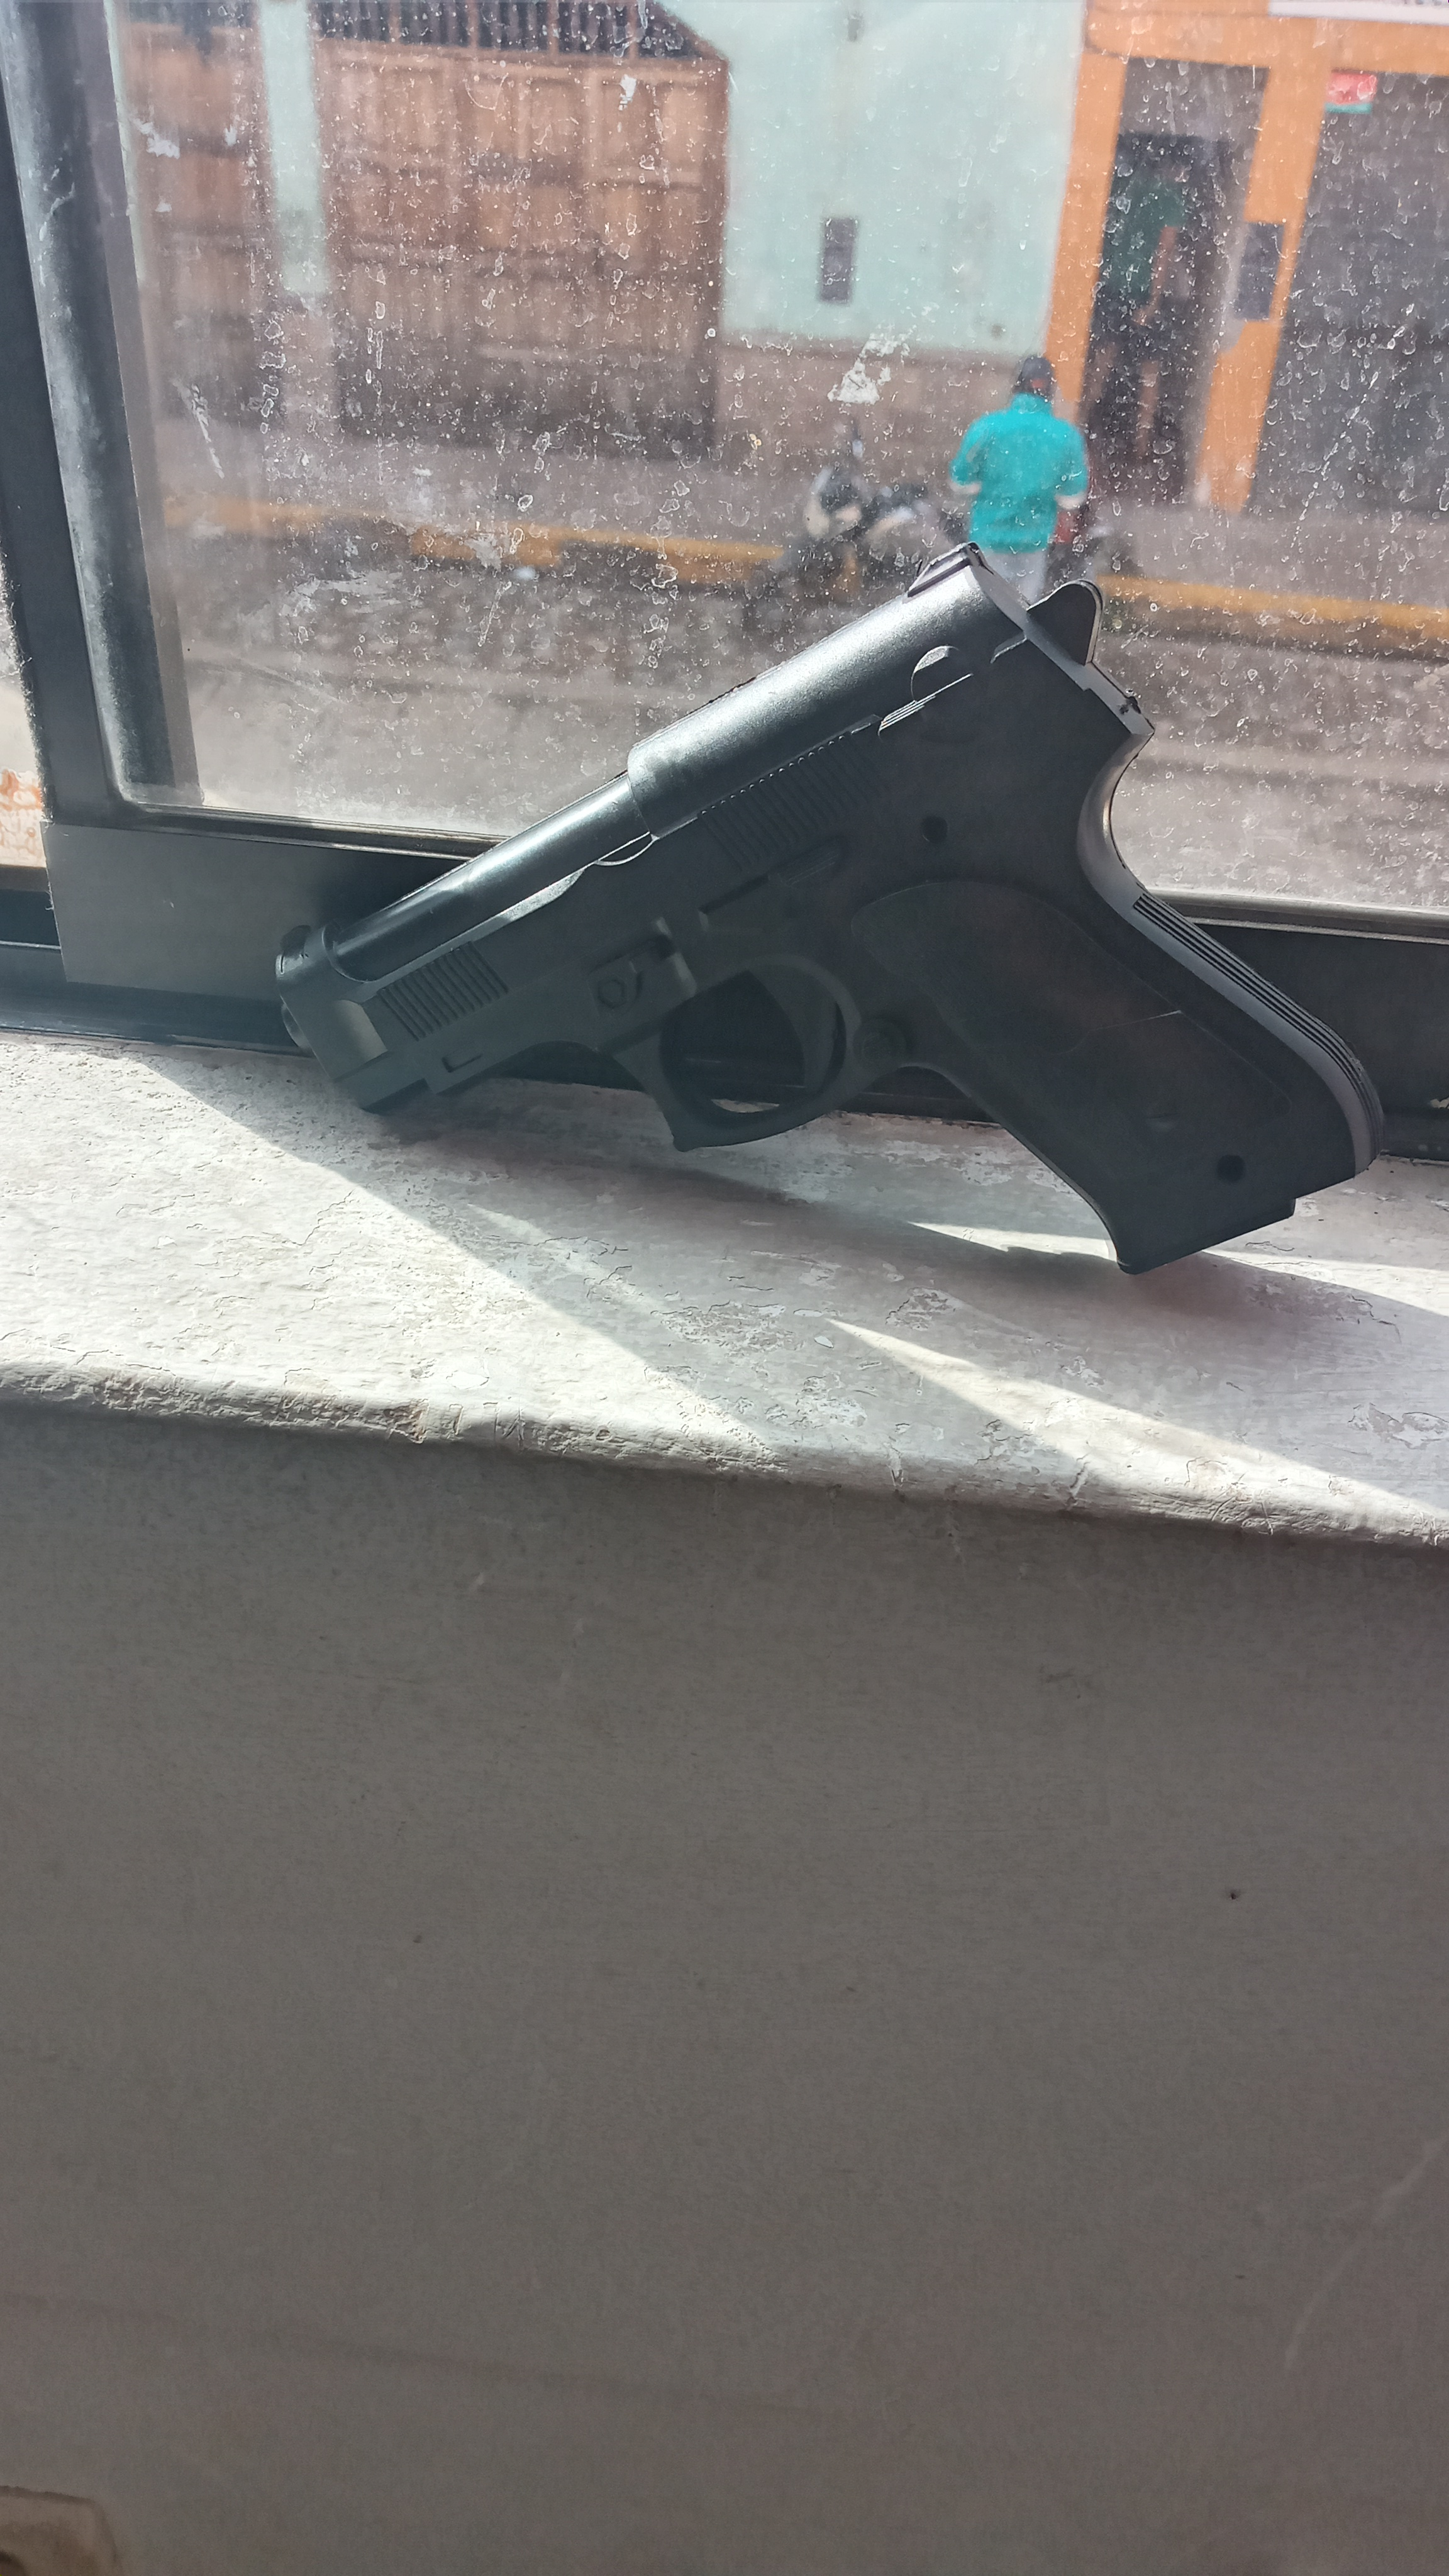Arma: (285, 577, 1297, 1166)
